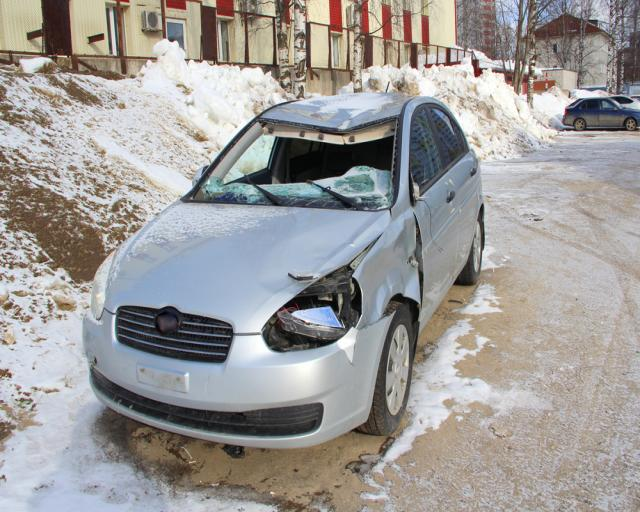dent: (263, 220, 377, 295), (355, 217, 421, 324), (283, 93, 406, 129)
glass shatter: (191, 120, 397, 210)
lamp broken: (262, 263, 361, 352)
